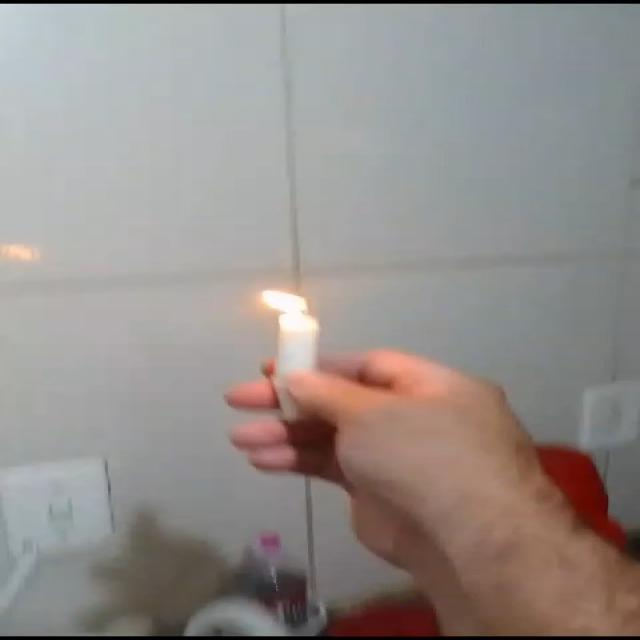fogo-ypXI: (260, 290, 309, 315)
